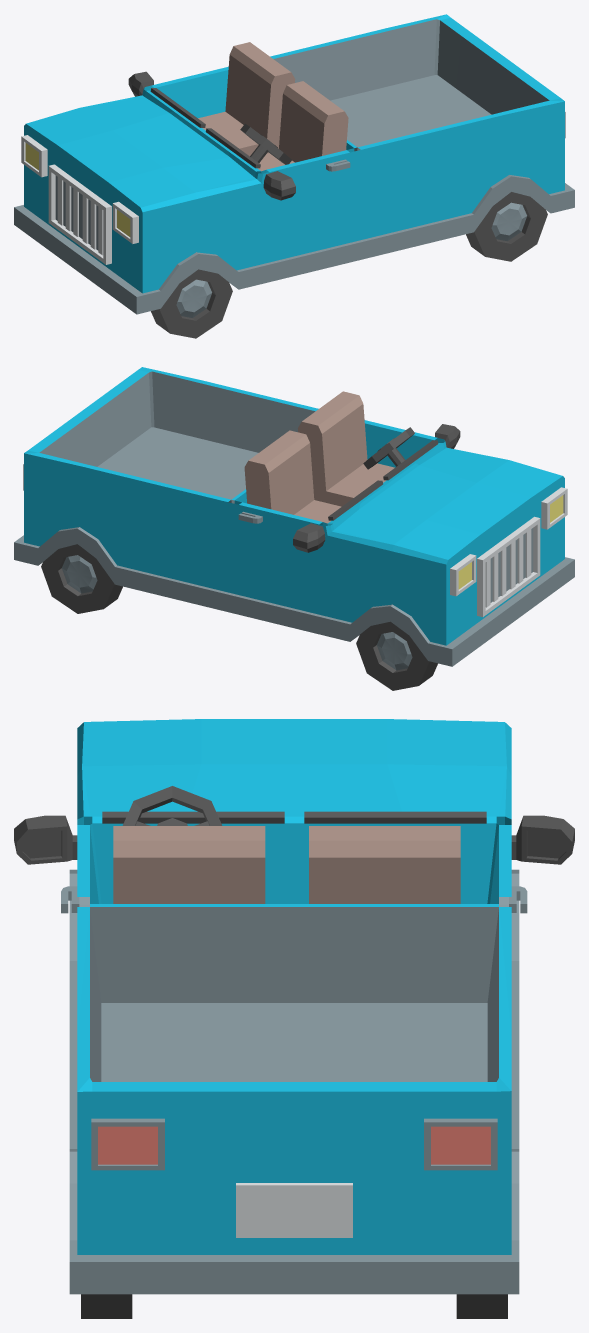
File: truck.glb
3 views of the same model, one above another, from view 1: azimuth 30°, elevation 25°; view 2: azimuth 150°, elevation 25°; view 3: azimuth 270°, elevation 25° (orthographic). The views are drawn at different scales.
Parts seen in each view (by area): view 1: car_01_Cube.000; view 2: car_01_Cube.000; view 3: car_01_Cube.000.
Boxes of the visible parts, <box> form: car_01_Cube.000: <box>14,14,574,338</box>; car_01_Cube.000: <box>14,367,574,690</box>; car_01_Cube.000: <box>14,719,574,1318</box>.
Size of the model in its own units: 353 by 140 by 213.
